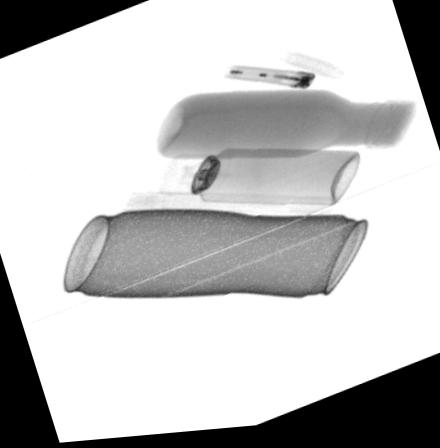Lighter: (221, 67, 316, 94)
Sprayer: (156, 150, 357, 211)
